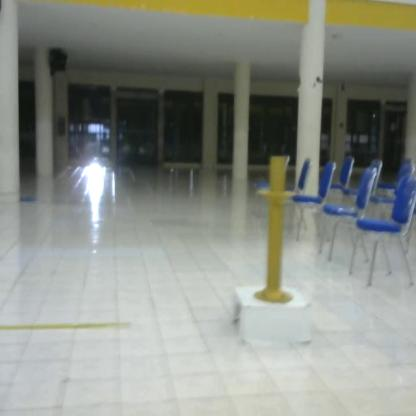pole: (253, 151, 299, 308)
